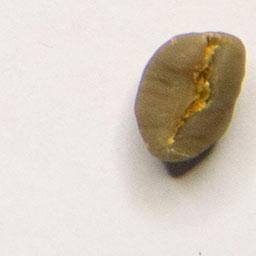peaberry: (131, 29, 249, 166)
